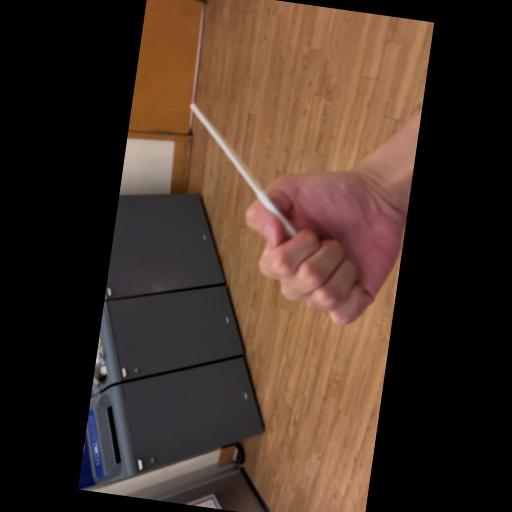utensil: (156, 93, 337, 255)
